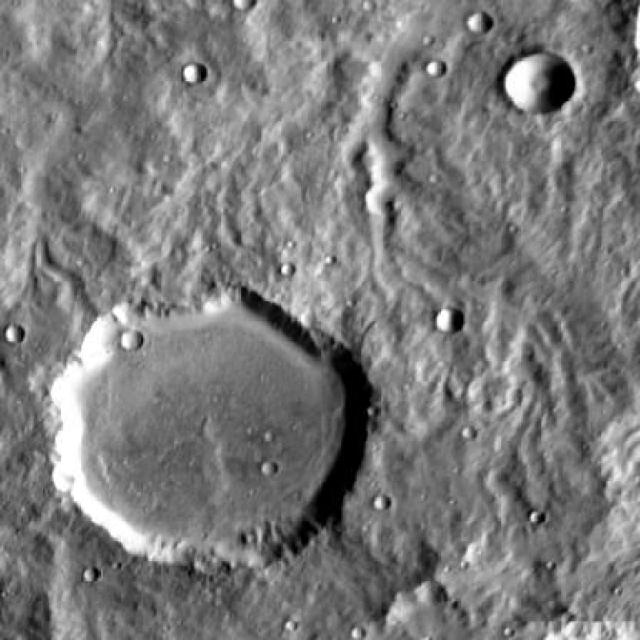crater: (44, 282, 364, 567), (501, 52, 573, 117), (438, 306, 468, 332), (181, 60, 207, 83), (467, 12, 491, 33), (123, 333, 145, 352), (425, 60, 444, 77), (374, 495, 392, 511), (8, 324, 23, 341)
